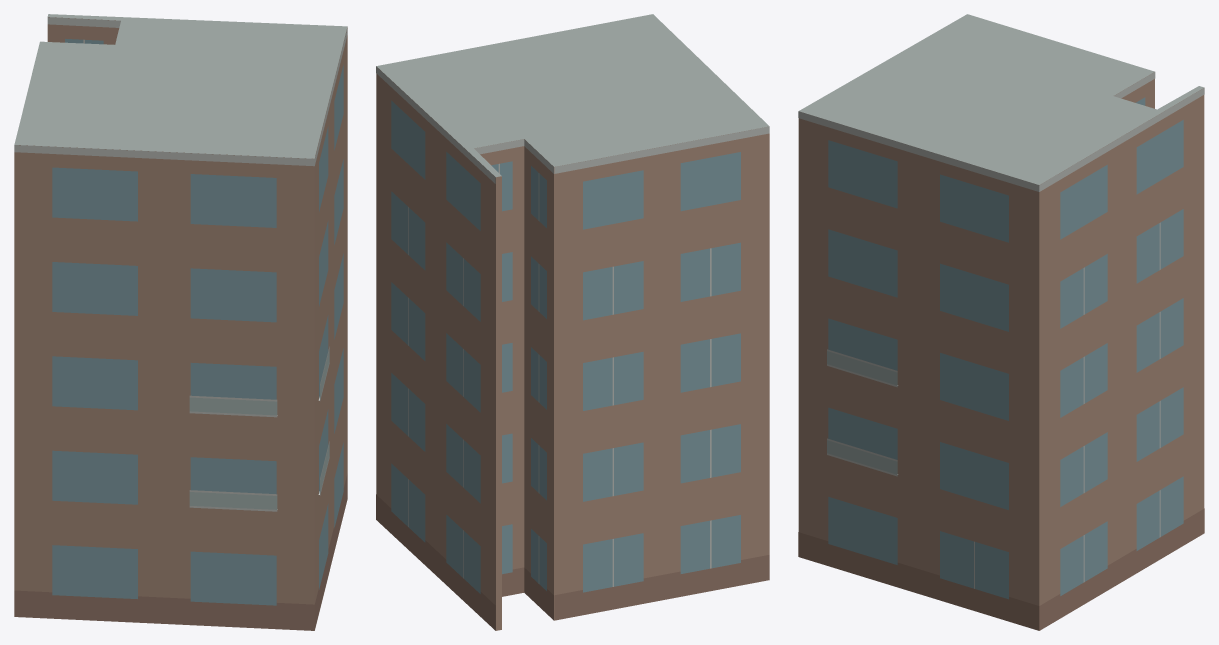
Rendered from survey-upis-33002155.glb.
The picture shows the model from 3 angles, left to right: view 1: azimuth 30°, elevation 25°; view 2: azimuth 150°, elevation 25°; view 3: azimuth 270°, elevation 25°; orthographic projection. The views are drawn at different scales.
Visible parts, largest first — view 1: survey-upis-33002155.tmp; view 2: survey-upis-33002155.tmp; view 3: survey-upis-33002155.tmp.
Part boxes in pixels (box(x1,y1,x2,y2)): survey-upis-33002155.tmp: box(14, 14, 347, 630); survey-upis-33002155.tmp: box(376, 14, 769, 630); survey-upis-33002155.tmp: box(798, 14, 1204, 630).
Size of the model in its own units: 12.85 by 15.6 by 12.88.
